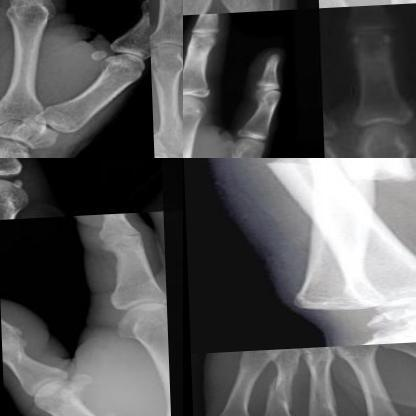fracture: (243, 158, 415, 209), (258, 375, 300, 409), (298, 381, 340, 415)
